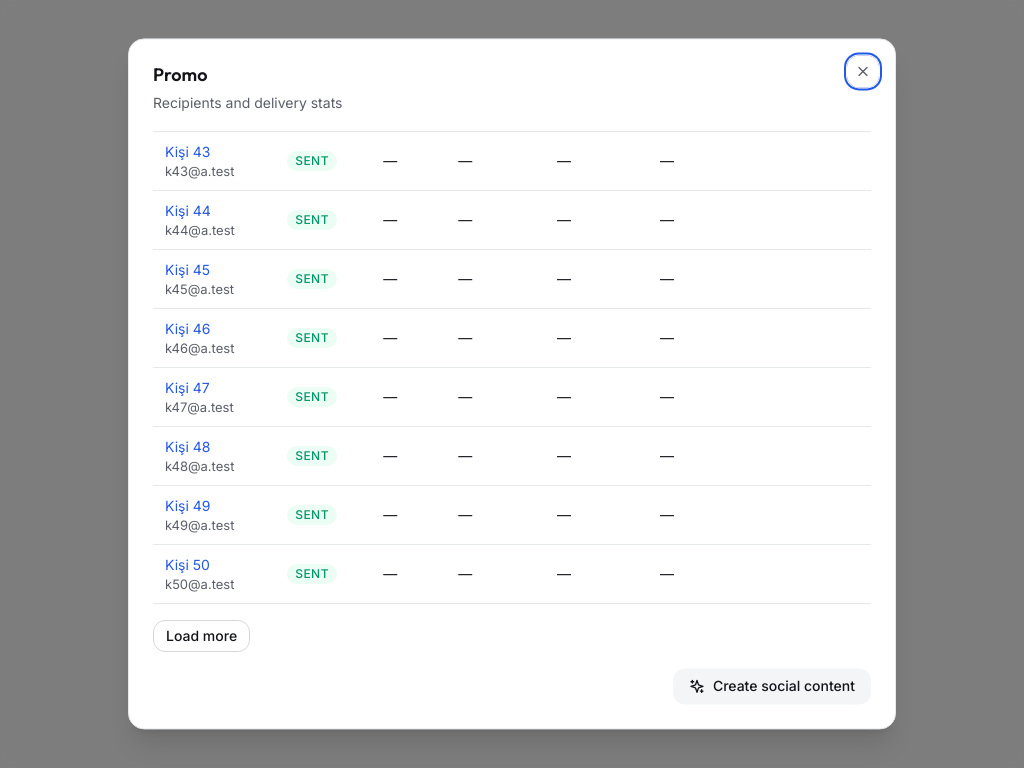
Test: CampaignDetailDialog — readable results › says how many of how many, and loads the next page on demand
The image size is (1024, 768).
(page scrolled)
Click the button "Load more".
click(202, 636)  # box [153, 620, 250, 652]
(page scrolled)
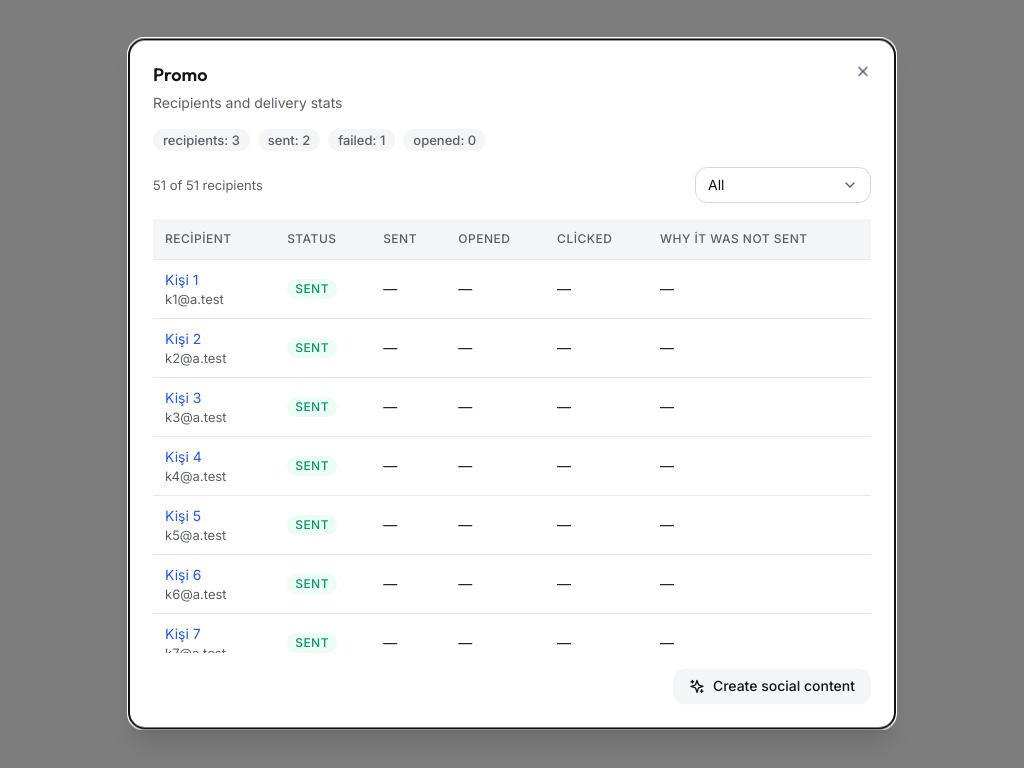
Result: the text "51 of 51 recipients" is shown at [153, 176, 263, 194]
